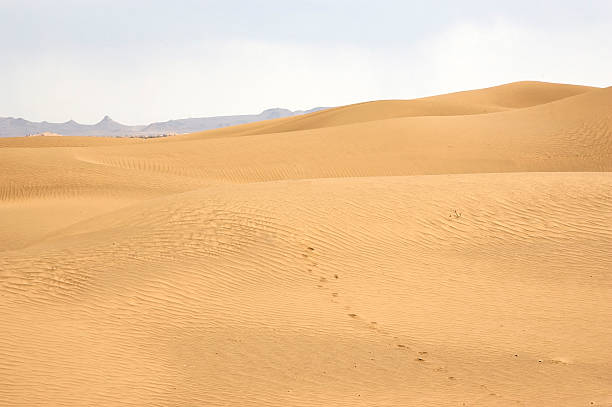human_foot_print: (303, 231, 493, 405)
